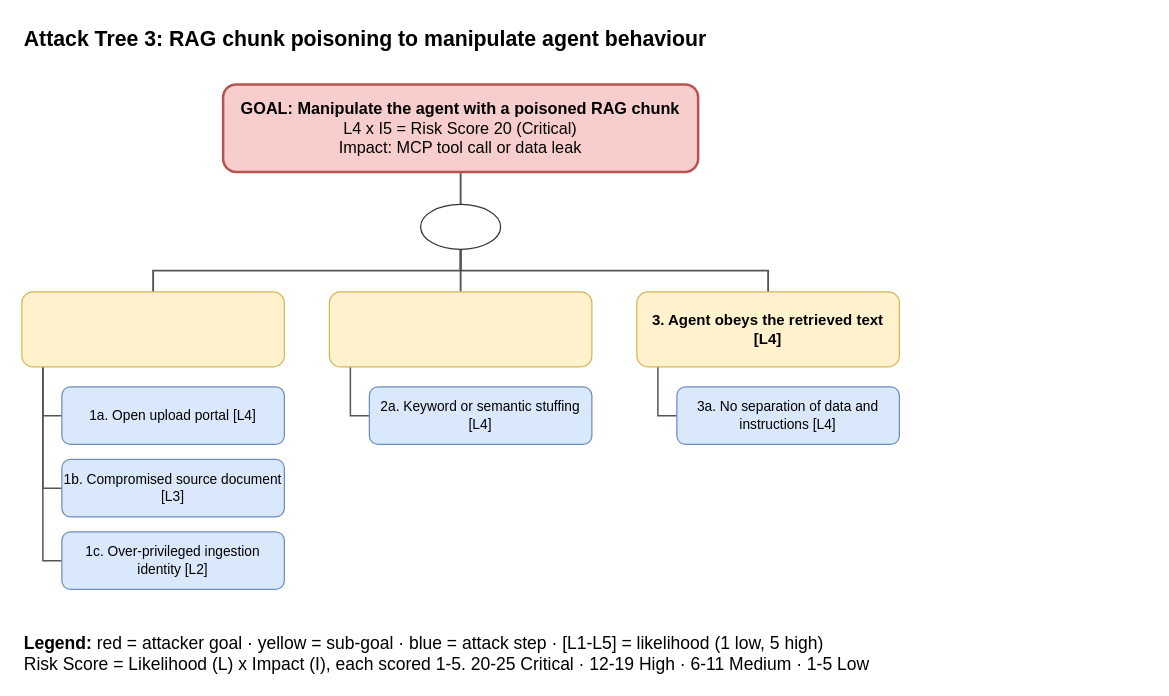
Image size: 1169x696. Some labels were removed from this diagram. The shapes that lost their labels are listed below. From the top down, each one's box as (x1, y1, x2, y2) in pixels, then its label:
(419, 203, 501, 249): AND
(21, 291, 284, 367): 1. Get the chunk into the index (OR) [L4]
(328, 291, 592, 367): 2. Get the chunk retrieved [L4]
